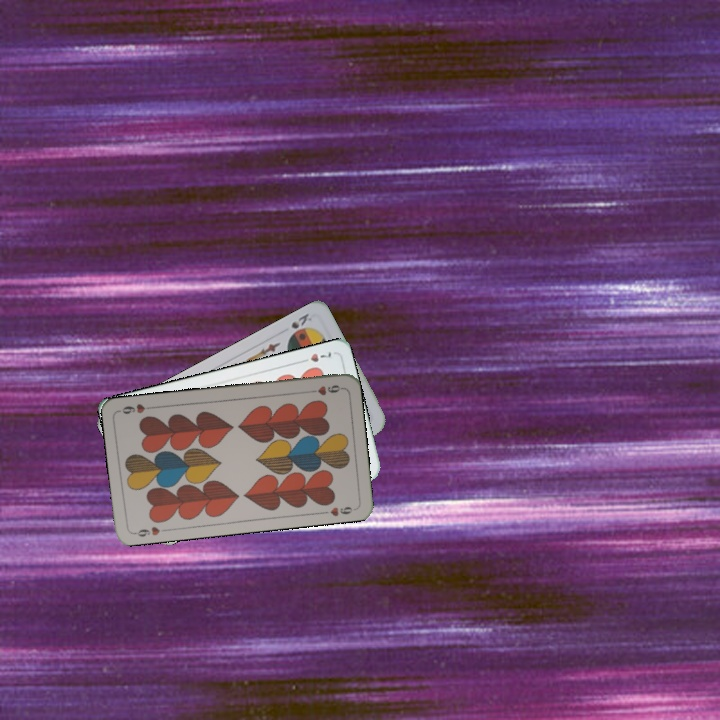H7: (295, 348, 334, 365)
H9: (304, 381, 344, 398), (130, 523, 170, 539)
SK: (287, 309, 315, 331)
